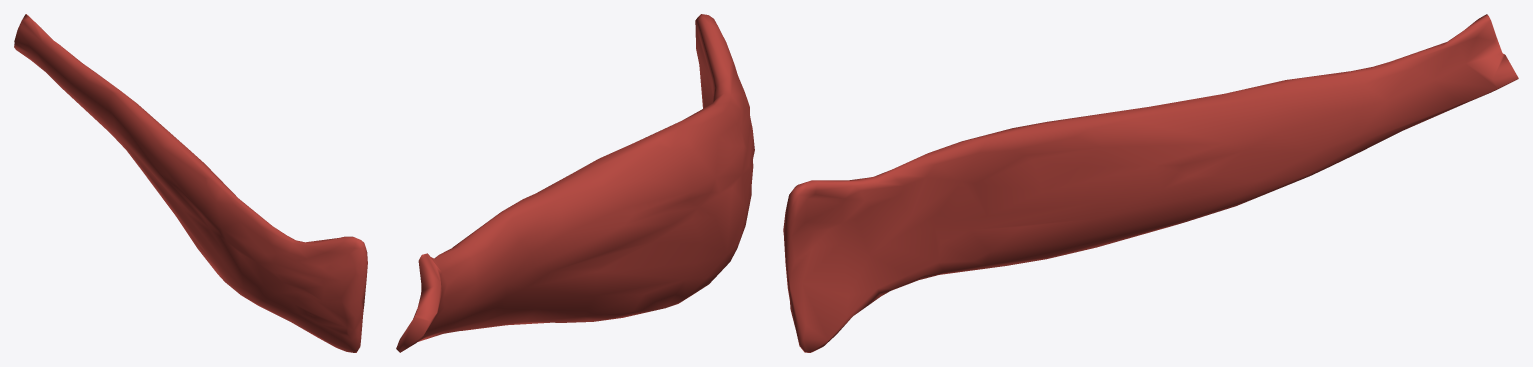
File: musculos-medial-rectus-muscle-l.glb
3 views of the same model, side by side, from view 1: azimuth 30°, elevation 25°; view 2: azimuth 150°, elevation 25°; view 3: azimuth 270°, elevation 25° (orthographic). The views are drawn at different scales.
Visible parts, largest first — view 1: Medial rectus muscle.l; view 2: Medial rectus muscle.l; view 3: Medial rectus muscle.l.
Part boxes in pixels (left/top/right/bottom): Medial rectus muscle.l: left=14, top=14, right=367, bottom=352; Medial rectus muscle.l: left=396, top=14, right=754, bottom=352; Medial rectus muscle.l: left=783, top=14, right=1518, bottom=352.
Bounding box in the file's own units: 0.00998 × 0.0166 × 0.0404.
